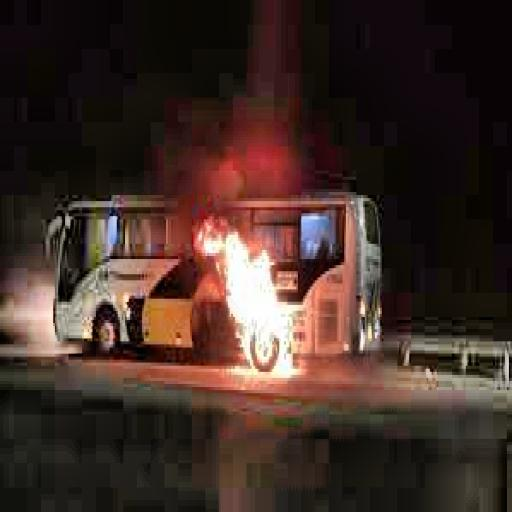fire: (192, 207, 308, 384)
